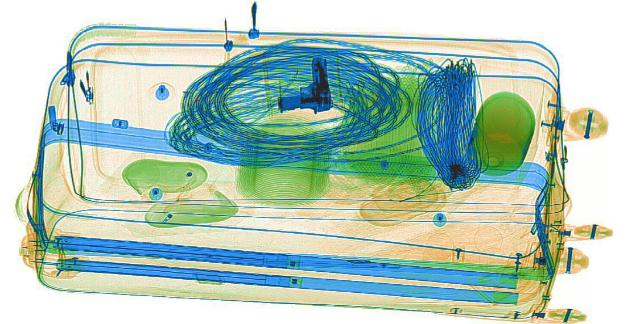Gun: (278, 55, 334, 112)
